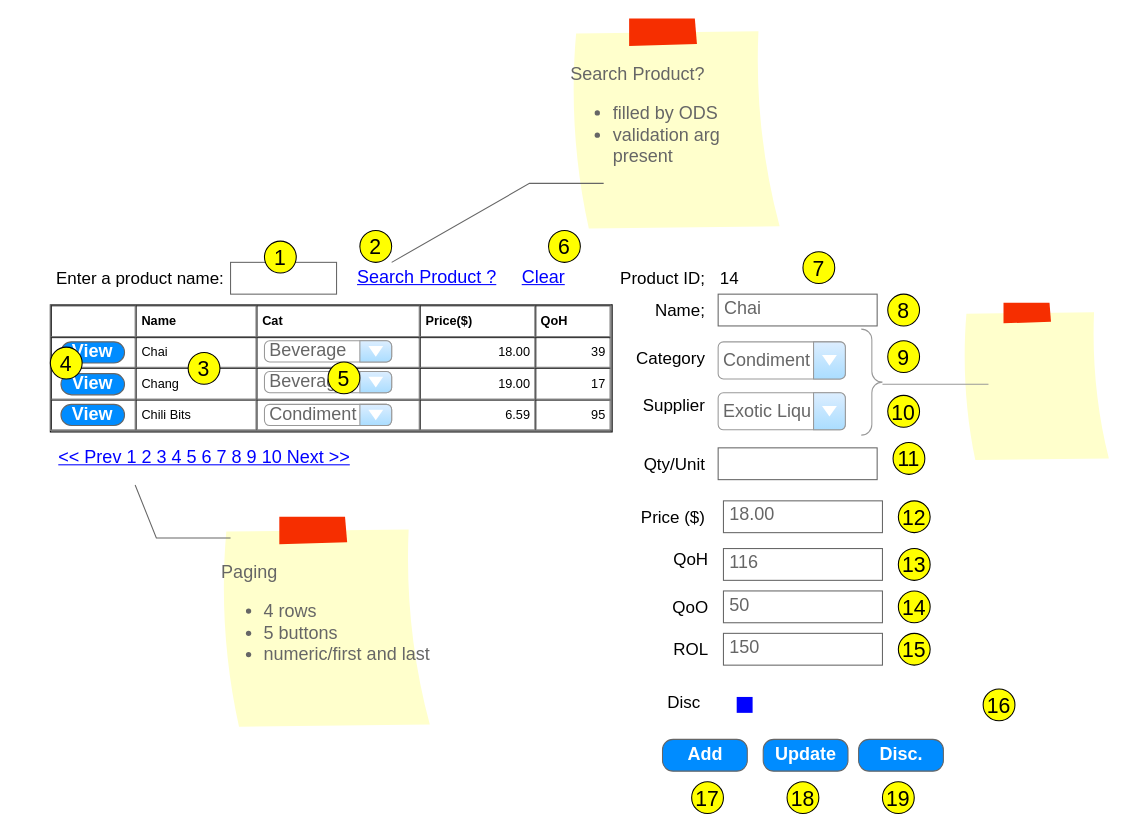
This 1129x832 diagram has some shape labels left out. The centre of each missing label's shape, as x and y in pixels:
"(discontinued if checked)" goes at point 744,704.
"ch" goes at point 283,277.
"ODS controls both filled using ODS" goes at point 1035,382.
